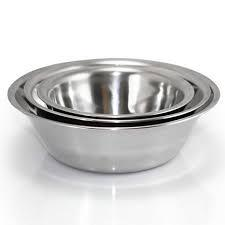Sponge Bowl: (5, 54, 218, 177)
